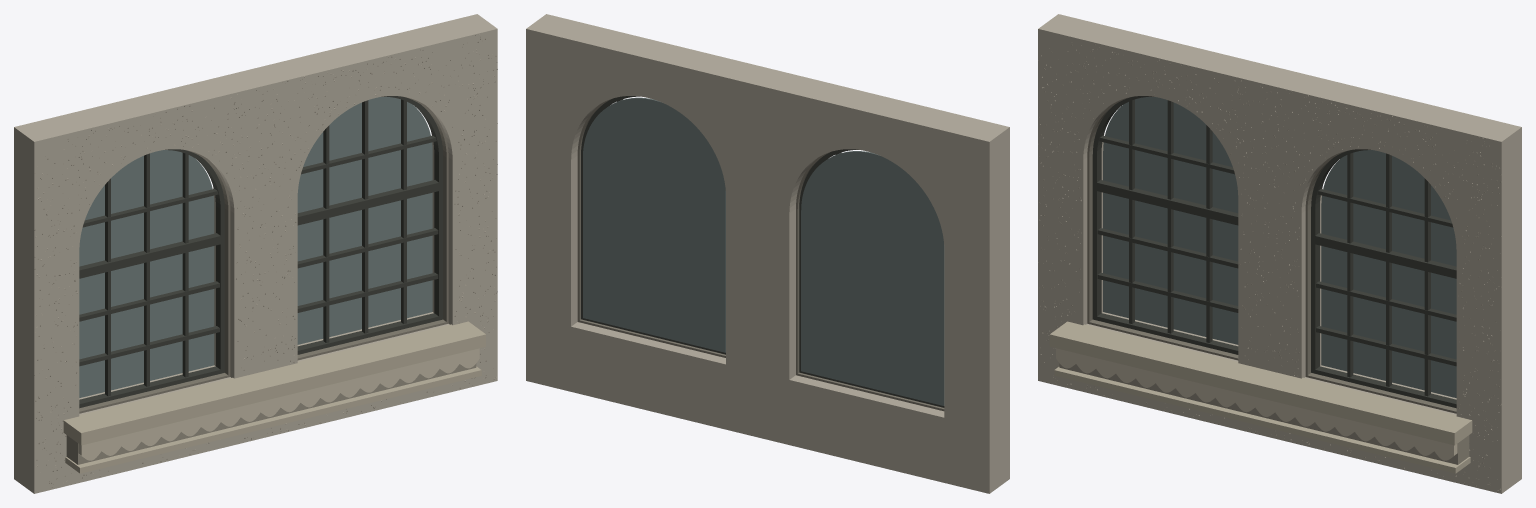
File: changning-anding-no16-arched-steel-windows-full.glb
The picture shows the model from 3 angles, left to right: view 1: azimuth 30°, elevation 25°; view 2: azimuth 150°, elevation 25°; view 3: azimuth 330°, elevation 25°; orthographic projection.
Visible parts, largest first — view 1: 安定坊16号双券钢窗与弧饰窗台; view 2: 安定坊16号双券钢窗与弧饰窗台; view 3: 安定坊16号双券钢窗与弧饰窗台.
Boxes of the visible parts, x1,y1,x2,y2 form: 安定坊16号双券钢窗与弧饰窗台: (14,14,497,493); 安定坊16号双券钢窗与弧饰窗台: (526,14,1009,493); 安定坊16号双券钢窗与弧饰窗台: (1038,14,1521,493).
Bounding box in the file's own units: 2.9 × 2.11 × 0.411.
